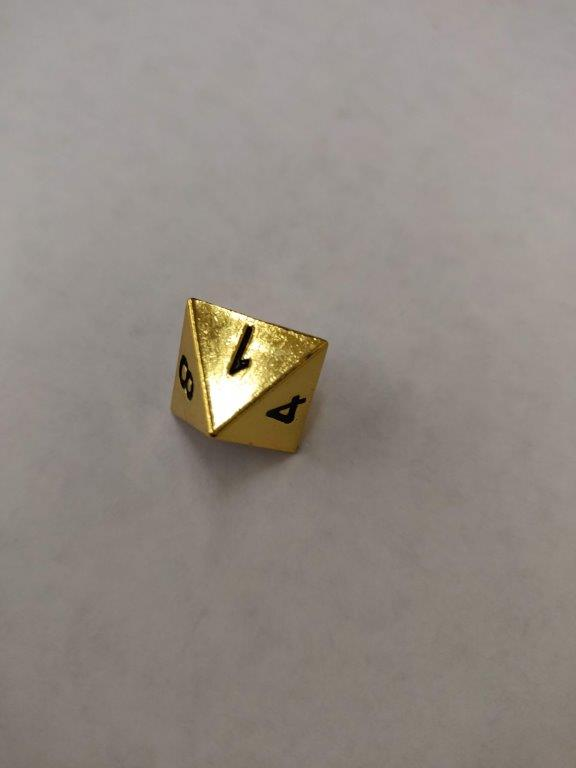d8-1: (162, 295, 333, 455)
